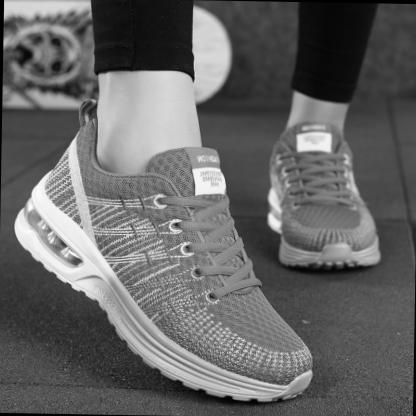ankle: (296, 156, 302, 161), (97, 165, 103, 170)
heel: (46, 181, 53, 187), (274, 190, 279, 196)
left_foot: (12, 145, 270, 406)
pinky: (231, 362, 247, 370), (367, 224, 373, 230)
right_foot: (270, 105, 385, 271)
toe: (253, 301, 263, 313), (291, 236, 297, 241)
